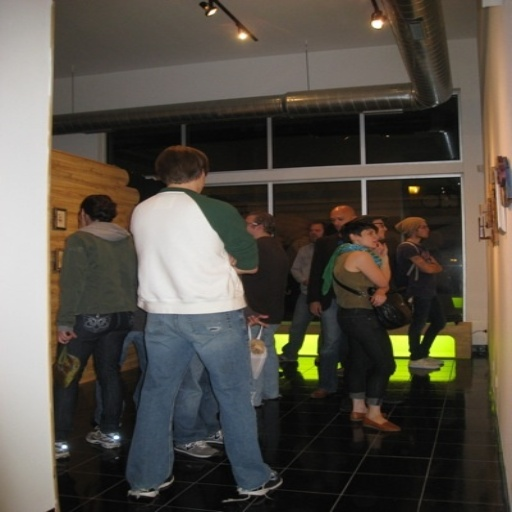hand: (369, 239, 390, 261), (53, 331, 78, 344), (369, 290, 387, 306), (307, 299, 322, 317), (249, 315, 268, 328), (227, 255, 236, 267)
